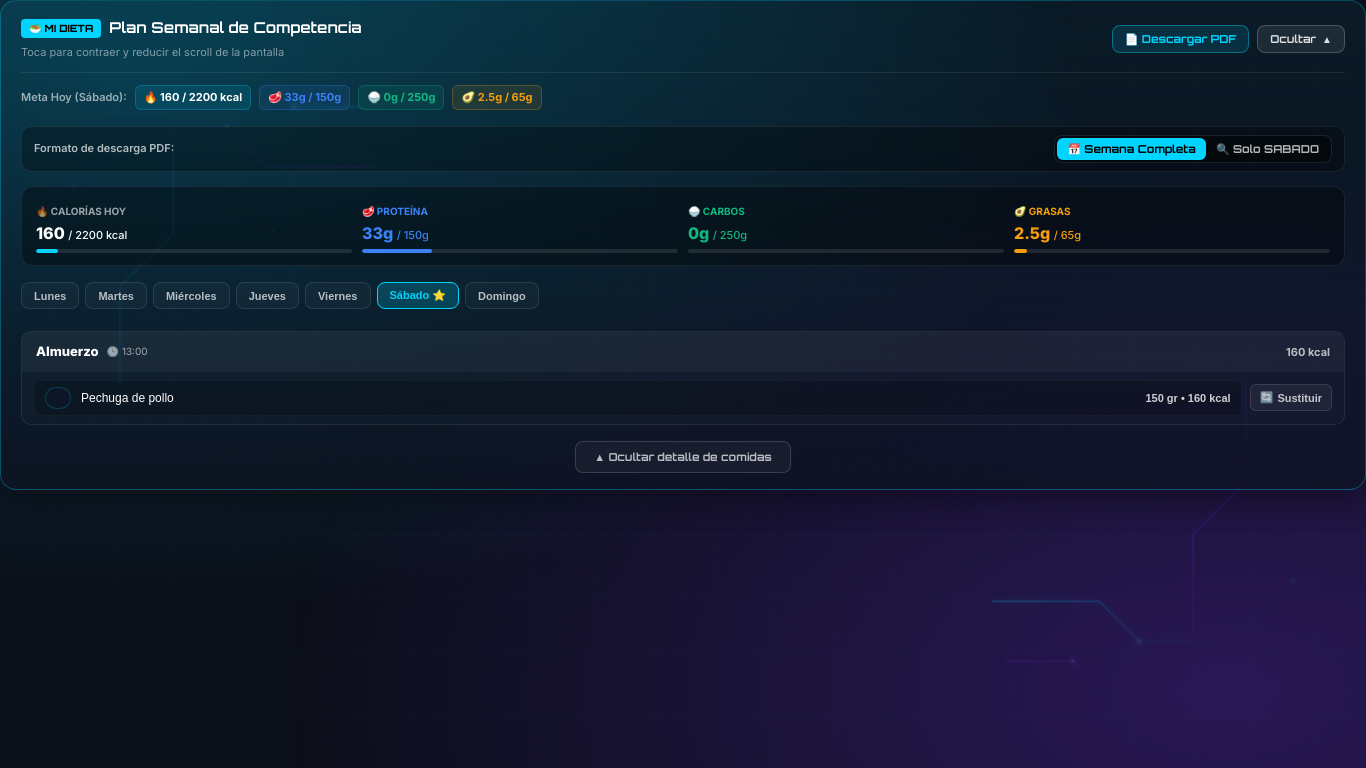
it: Sustitución de Alimentos del Atleta con Persistencia Segura (Zero-Corruption) › permite al atleta sustituir por hoy: se persiste en localStorage y NO modifica datos_plan en Supabase
Check: the text "Pechuga de pollo" is shown, box [81,391,174,405]
Note: Abrir modal de sustitución con el botón "Sustituir"
Click the button "🔄 Sustituir".
click(1291, 398)  # box [1250,384,1332,411]
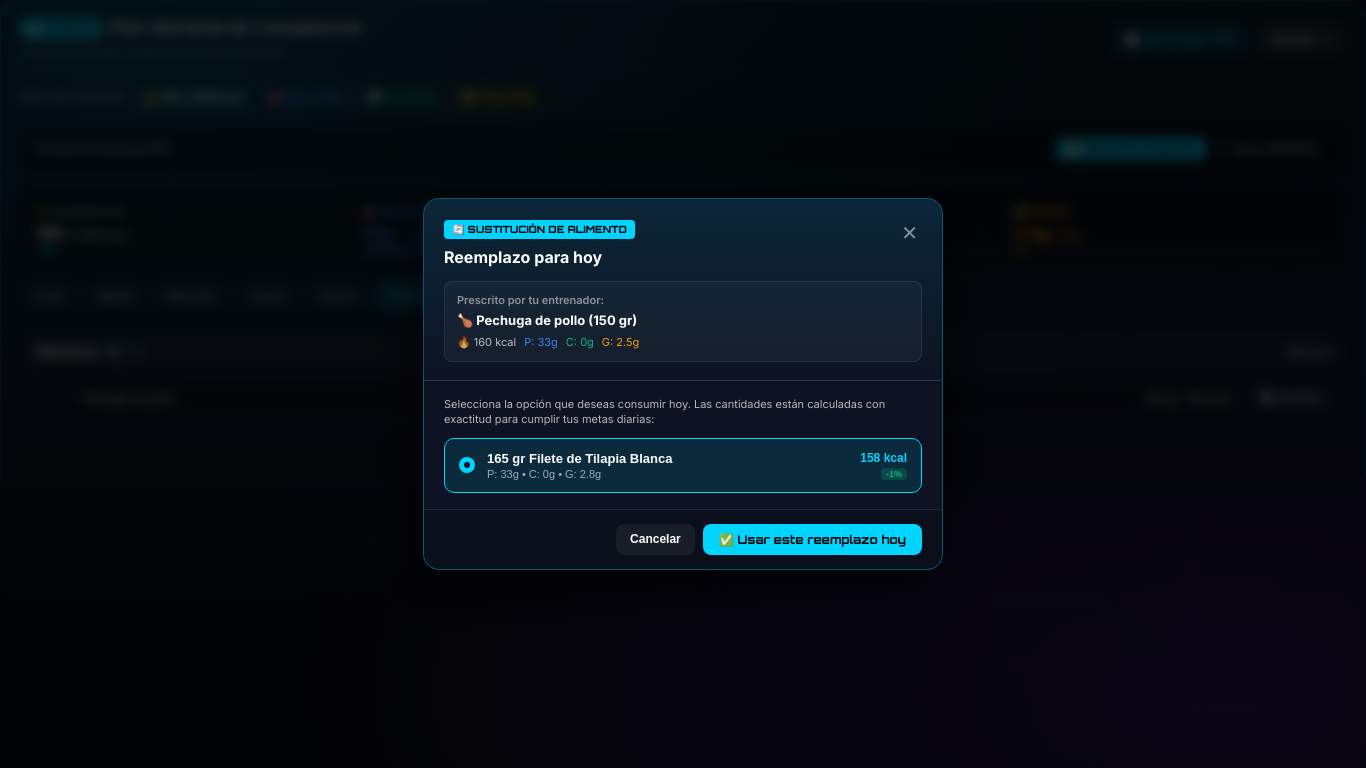
Check: the text "🔄 SUSTITUCIÓN DE ALIMENTO" is shown, box [444,220,635,239]
Note: Presionar "Usar este reemplazo hoy"
Click the button "✅ Usar este reemplazo hoy".
click(812, 539)  # box [703,524,922,555]
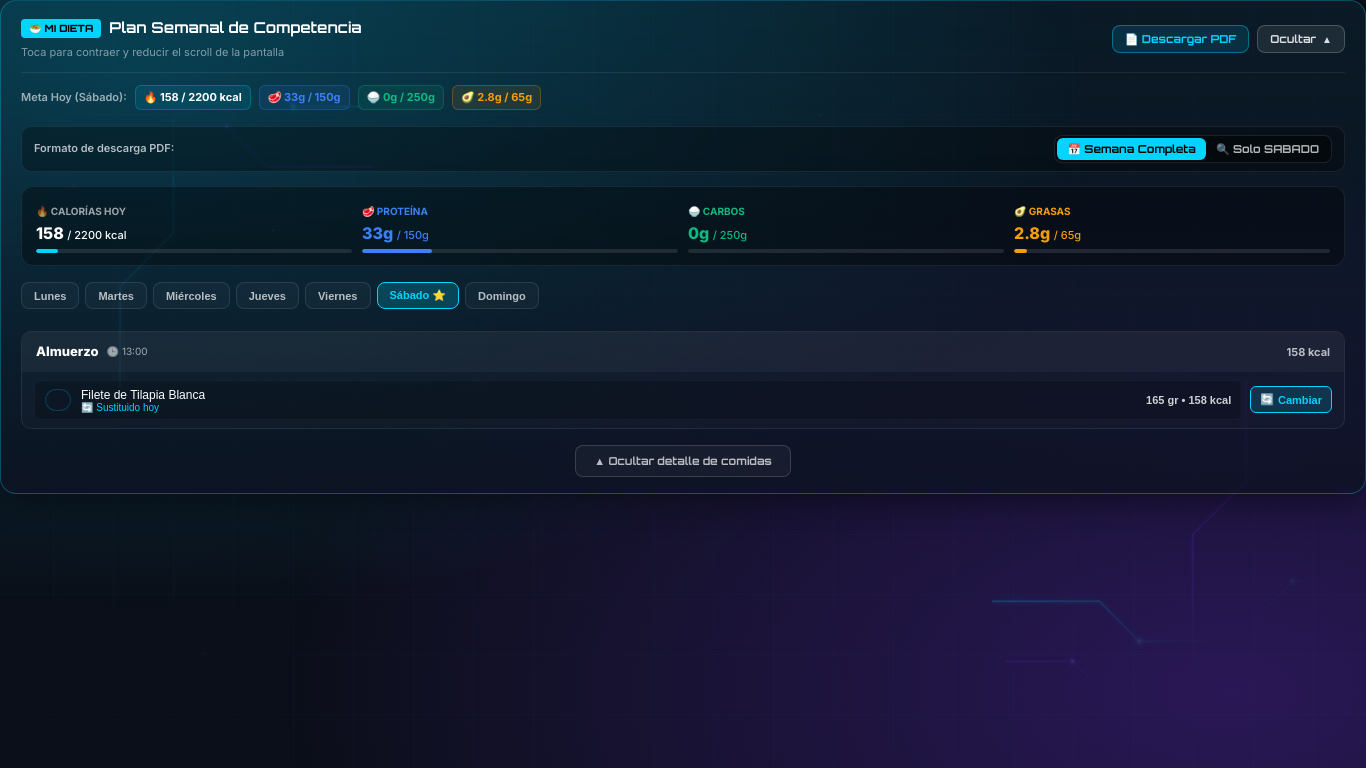
Check: the text "Filete de Tilapia Blanca" is shown, box [81,388,205,402]
Check: the text "🔄 Sustituido hoy" is shown, box [81,402,159,412]
